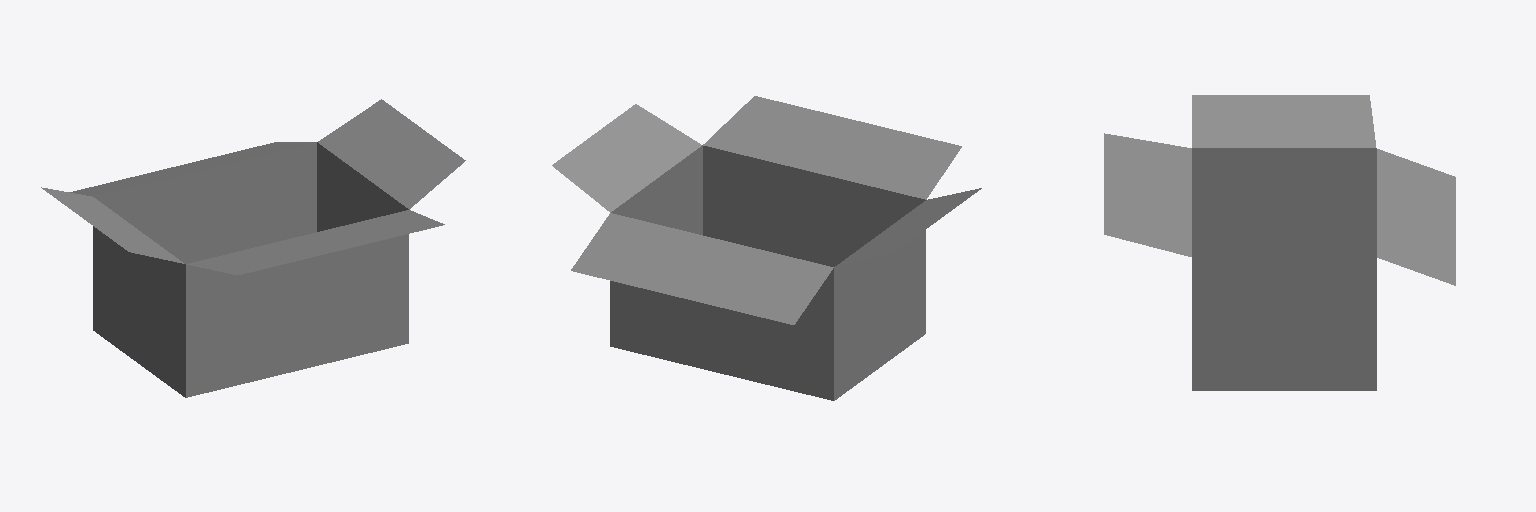
File: boxok.obj
The picture shows the model from 3 angles: view 1: azimuth 30°, elevation 25°; view 2: azimuth 150°, elevation 25°; view 3: azimuth 270°, elevation 25°; orthographic projection.
Parts seen in each view (by area): view 1: objpCube4; view 2: objpCube4; view 3: objpCube4.
Part boxes in pixels (bbox=[...]): objpCube4: bbox=[41, 99, 465, 397]; objpCube4: bbox=[552, 96, 981, 400]; objpCube4: bbox=[1104, 95, 1455, 390].
Bounding box in the file's own units: 10.71 × 4.9 × 9.56.